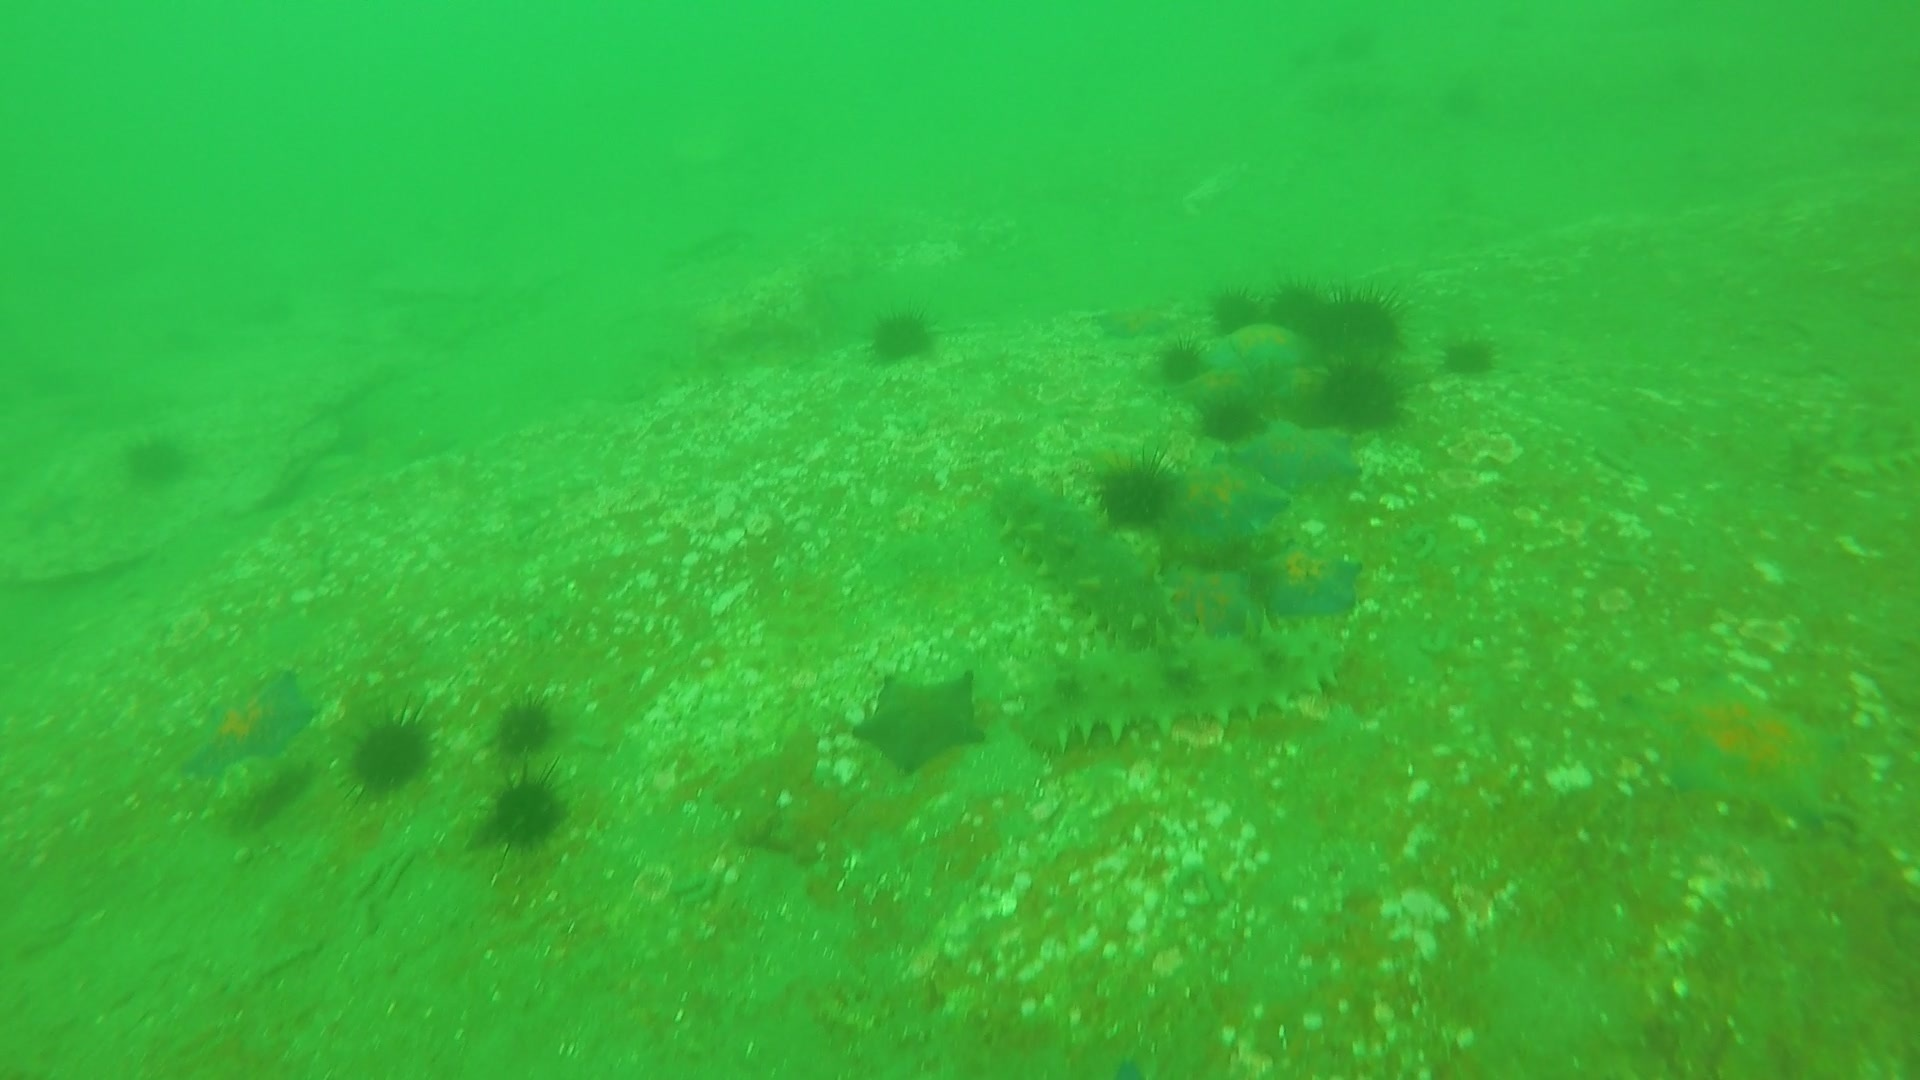echinus: (340, 705, 439, 803), (1296, 280, 1408, 357), (477, 770, 571, 855), (1091, 450, 1182, 535), (1313, 356, 1408, 436), (487, 688, 564, 760), (862, 302, 943, 371), (117, 426, 196, 492), (1197, 392, 1266, 448), (1205, 281, 1269, 338), (1437, 328, 1502, 384), (1151, 335, 1209, 389)
holothurian: (1018, 621, 1356, 756), (986, 472, 1180, 647)
starfish: (1646, 671, 1858, 836), (849, 661, 992, 778), (181, 666, 318, 782), (1158, 458, 1288, 558), (1249, 535, 1366, 626), (1233, 418, 1362, 496), (1156, 563, 1263, 644), (1207, 316, 1315, 385), (1088, 295, 1180, 345), (1180, 360, 1259, 415)
